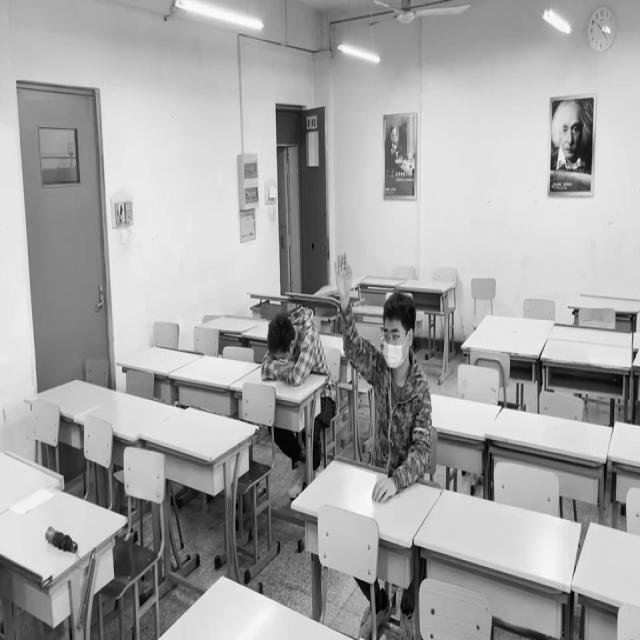sleep: (260, 316, 319, 383)
study: (334, 252, 429, 499)
